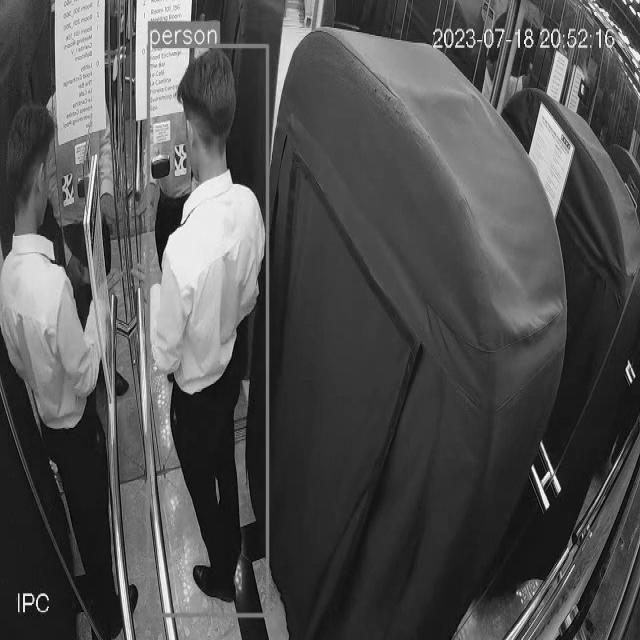person: (140, 48, 274, 624), (0, 98, 119, 621)
